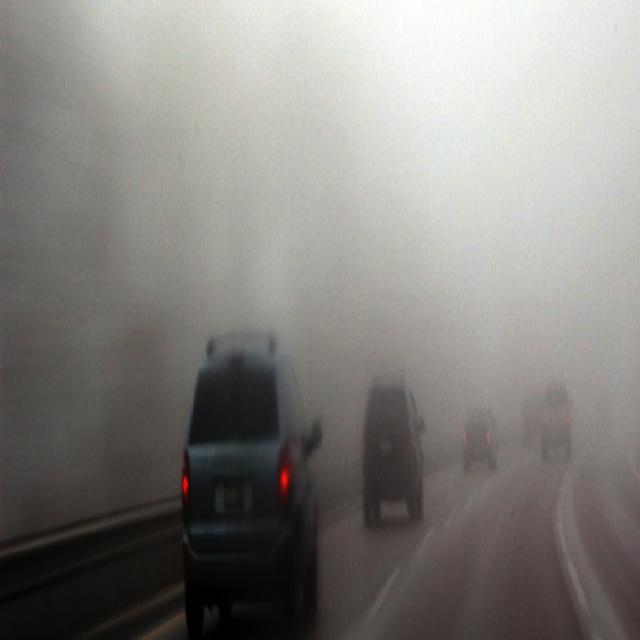car: (180, 334, 324, 638), (362, 380, 424, 522), (541, 376, 574, 459), (460, 404, 496, 472)
